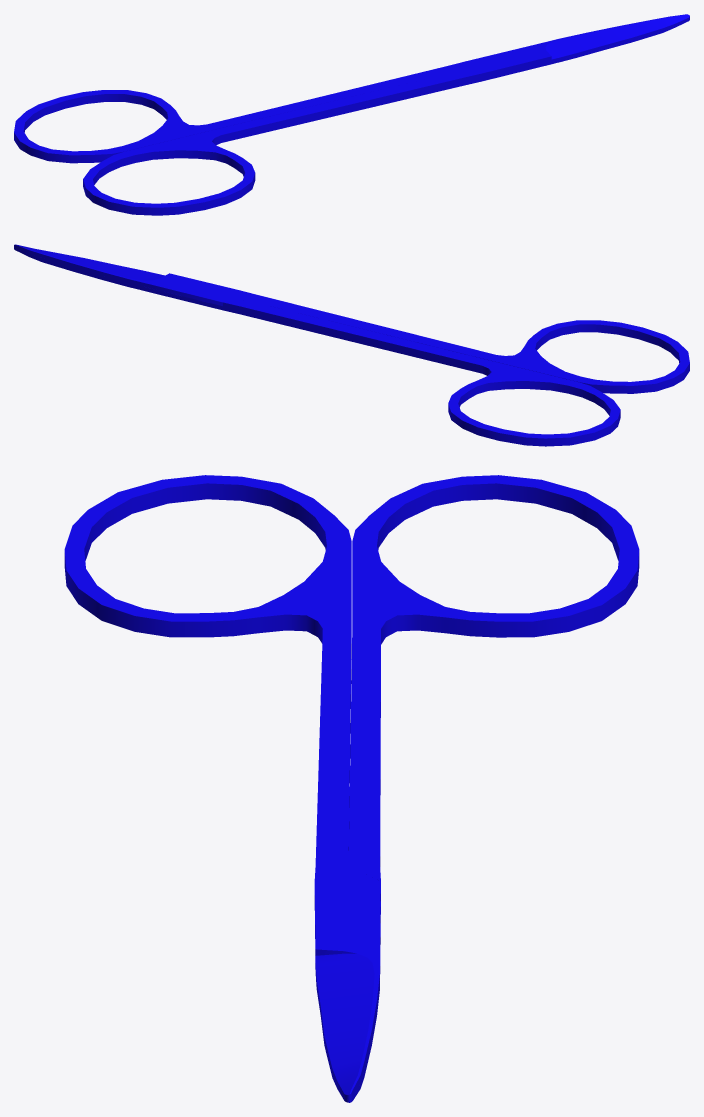
Rendered from ciseaux.FBX.
3 renders of one model, top to bottom at view 1: azimuth 30°, elevation 25°; view 2: azimuth 150°, elevation 25°; view 3: azimuth 270°, elevation 25°, orthographic. The views are drawn at different scales.
Visible parts, largest first — view 1: ciseaux2, ciseaux; view 2: ciseaux, ciseaux2; view 3: ciseaux2, ciseaux.
Boxes of the visible parts, x1,y1,x2,y2 form: ciseaux2: (83, 14, 689, 215); ciseaux: (14, 19, 689, 163); ciseaux: (14, 248, 620, 446); ciseaux2: (14, 244, 689, 393); ciseaux2: (64, 475, 380, 1099); ciseaux: (315, 475, 639, 1102).
Bounding box in the file's own units: 5.44 × 0.0657 × 2.14.
